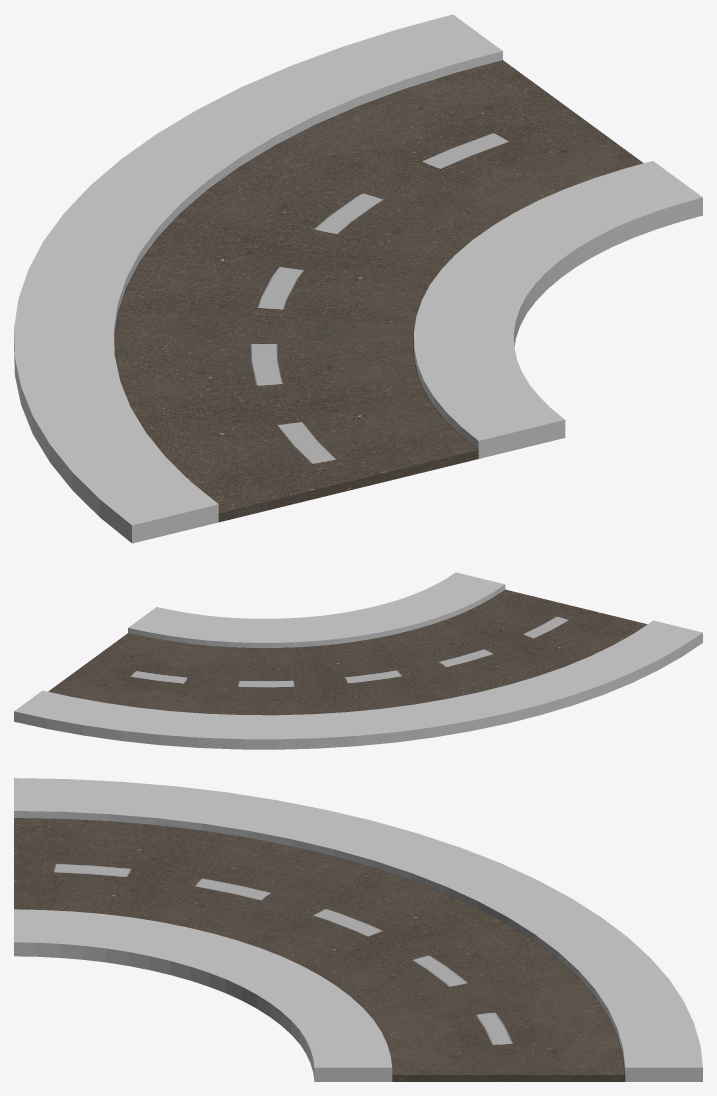
File: 90deg.obj
The picture shows the model from 3 angles, top to bottom: view 1: azimuth 30°, elevation 25°; view 2: azimuth 150°, elevation 25°; view 3: azimuth 270°, elevation 25°; orthographic projection. The views are drawn at different scales.
Parts seen in each view (by area): view 1: 90deg; view 2: 90deg; view 3: 90deg.
Part boxes in pixels (left/top/right/bottom): 90deg: left=14, top=14, right=702, bottom=543; 90deg: left=14, top=572, right=702, bottom=749; 90deg: left=14, top=778, right=702, bottom=1081.
Size of the model in its own units: 17.65 by 0.4 by 17.73.
